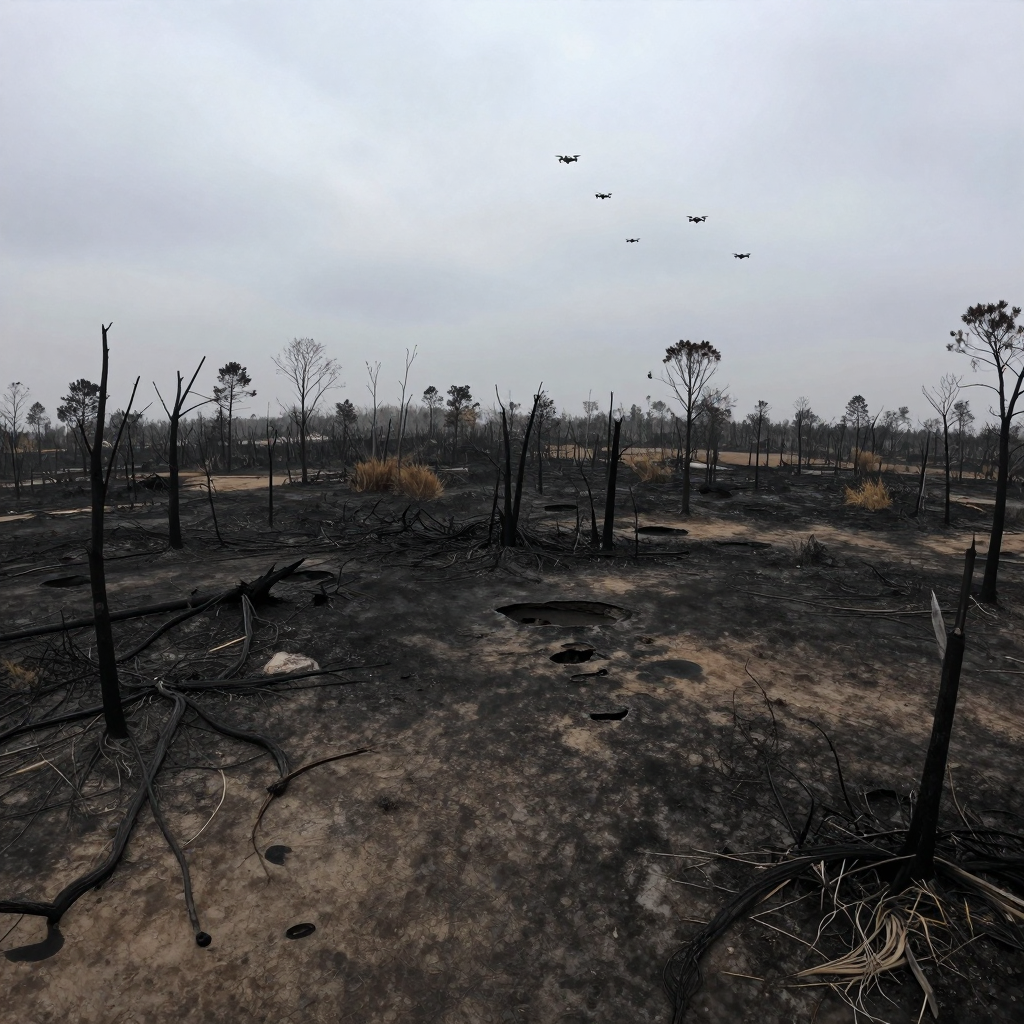drone: (554, 154, 581, 164), (686, 216, 709, 224), (595, 192, 612, 200), (732, 253, 751, 260), (626, 238, 640, 243)
